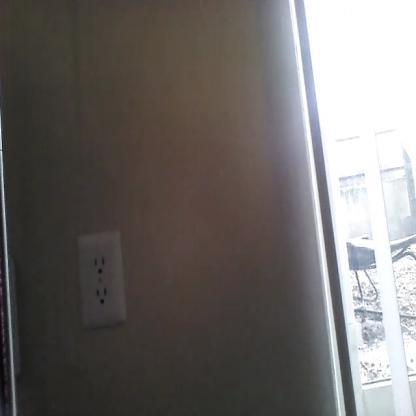OUTLET: (78, 233, 126, 324)
